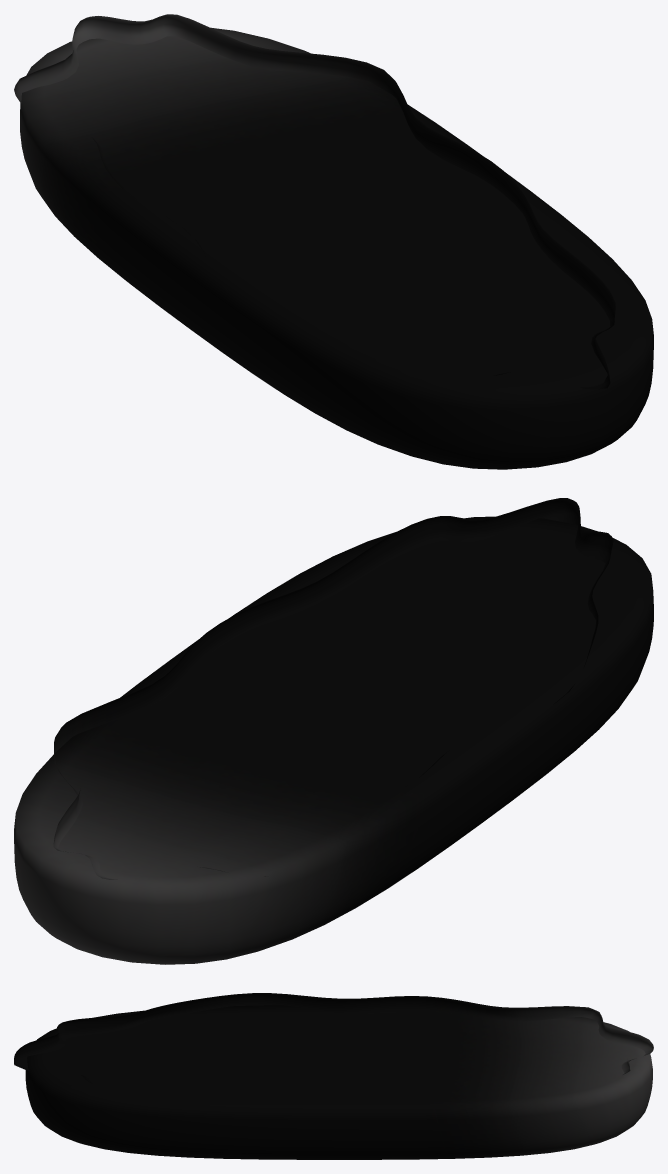
File: BreadCheeseBurnt.glb
The picture shows the model from 3 angles, top to bottom: view 1: azimuth 30°, elevation 25°; view 2: azimuth 150°, elevation 25°; view 3: azimuth 270°, elevation 25°; orthographic projection. The views are drawn at different scales.
Visible parts, largest first — view 1: BreadCheesyBurnt; view 2: BreadCheesyBurnt; view 3: BreadCheesyBurnt.
Boxes of the visible parts, x1=… form: BreadCheesyBurnt: x1=14, y1=14, x2=653, y2=469; BreadCheesyBurnt: x1=14, y1=498, x2=653, y2=964; BreadCheesyBurnt: x1=14, y1=993, x2=653, y2=1159.
Size of the model in its own units: 0.184 by 0.0713 by 0.4722.
Materials: 1 (1 with a texture image).
